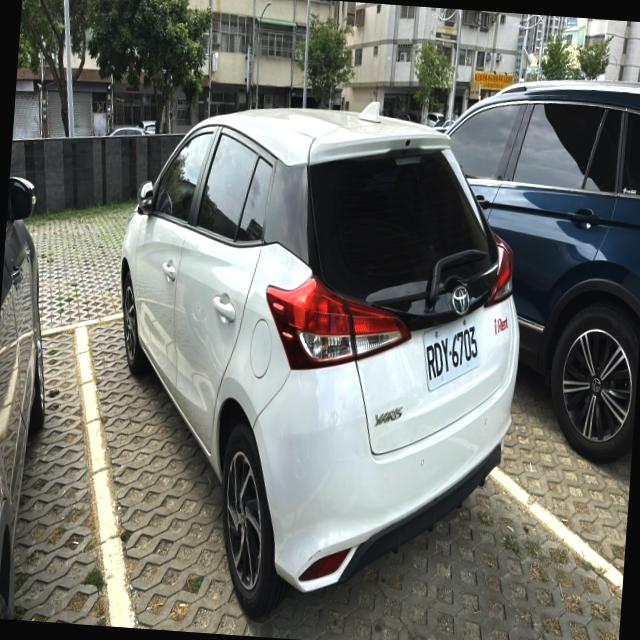license plate: (424, 316, 478, 389)
wheel: (222, 423, 285, 616)
